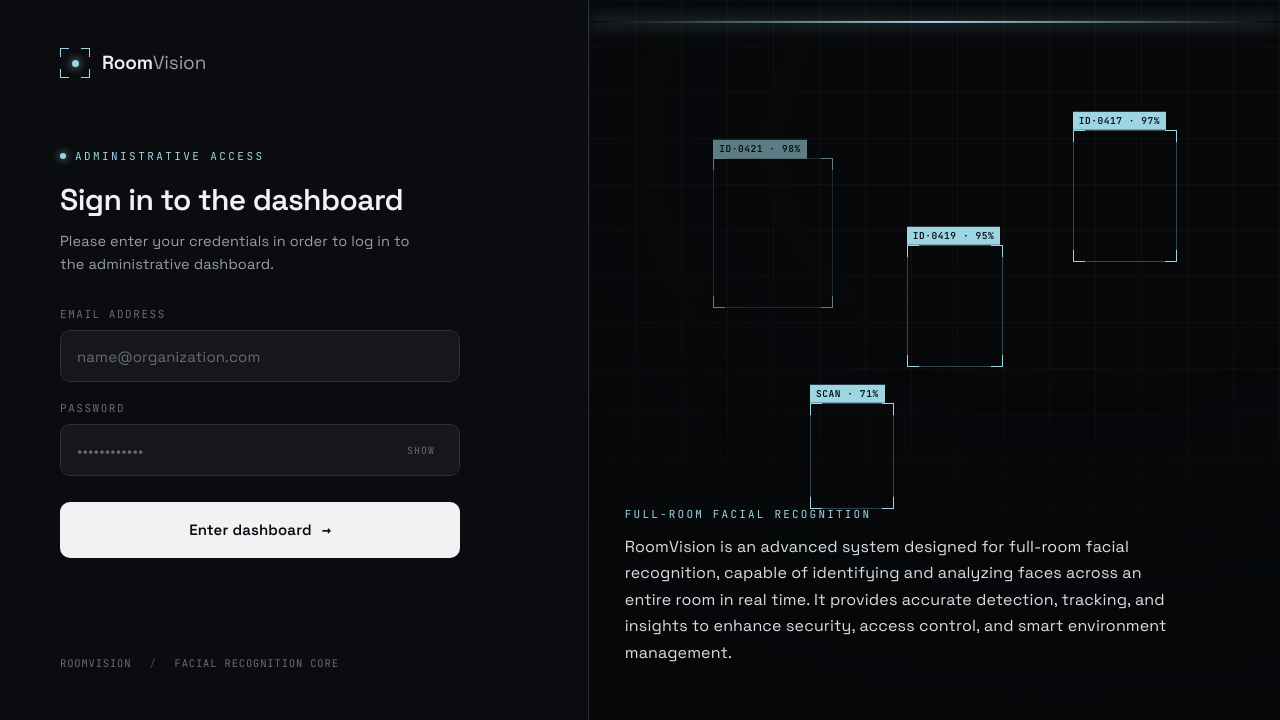
Login Page › shows error when only password is filled
Type "secret" into the password field labelled "Password". click: (225, 450)
box: [61,425,389,475]
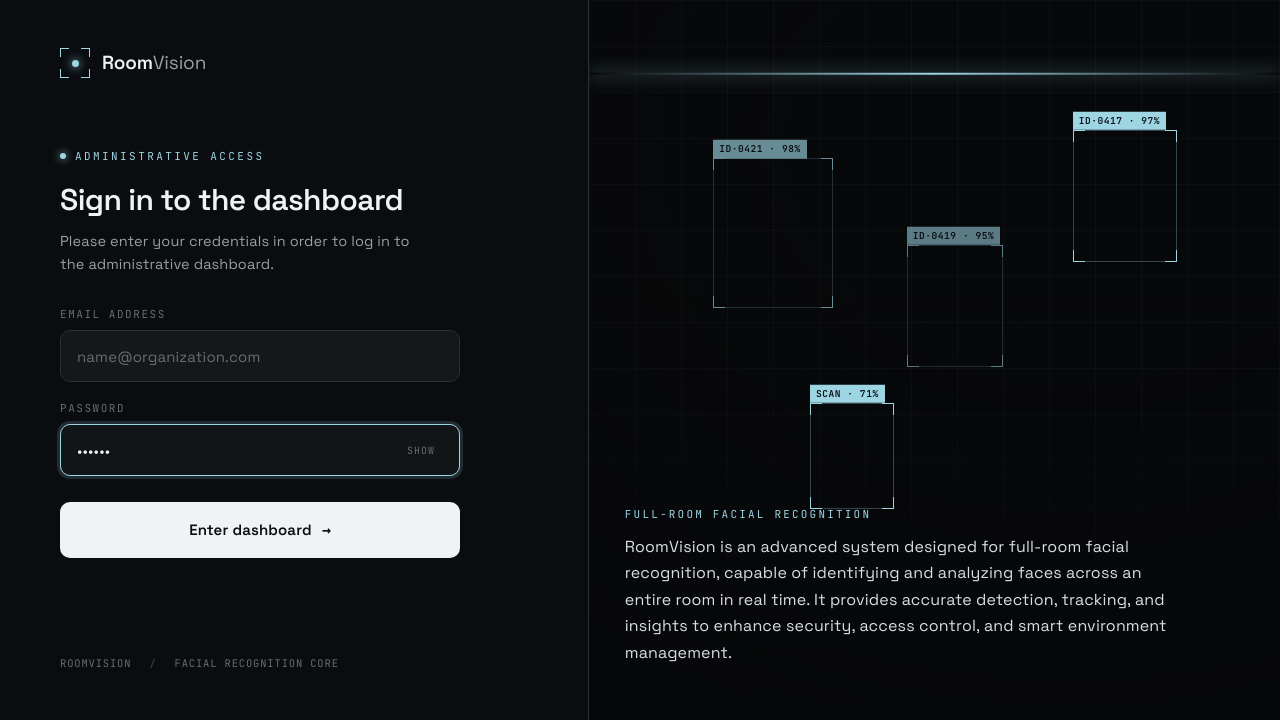
Click the submit button. click: (260, 530)
box: [60,502,460,558]
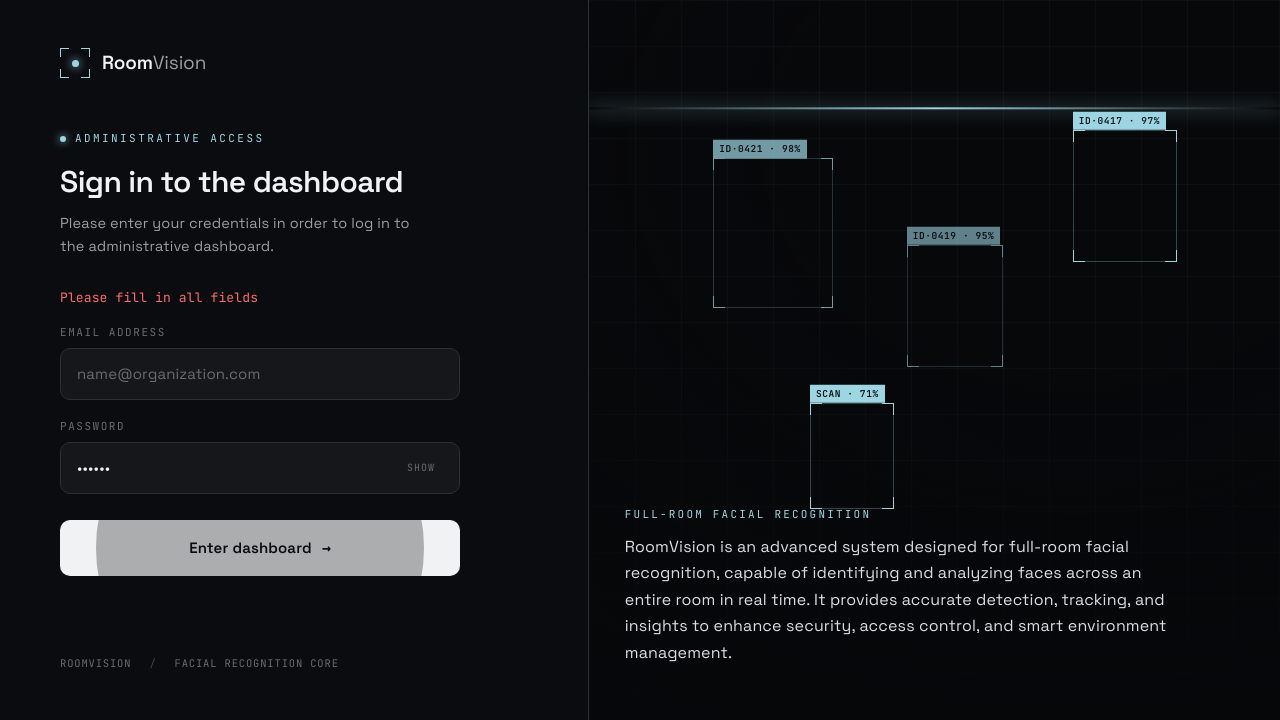
Now the text "Please fill in all fields" is shown, box [60,289,258,306]
